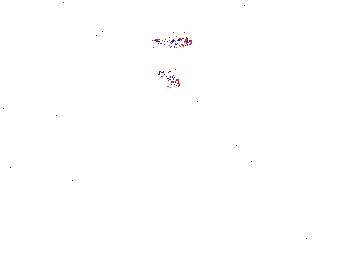X-ray fish: (231, 137, 280, 169)
red belly glassfish: (149, 34, 194, 51), (157, 68, 182, 90)
redtail glassfish: (48, 16, 113, 46)
